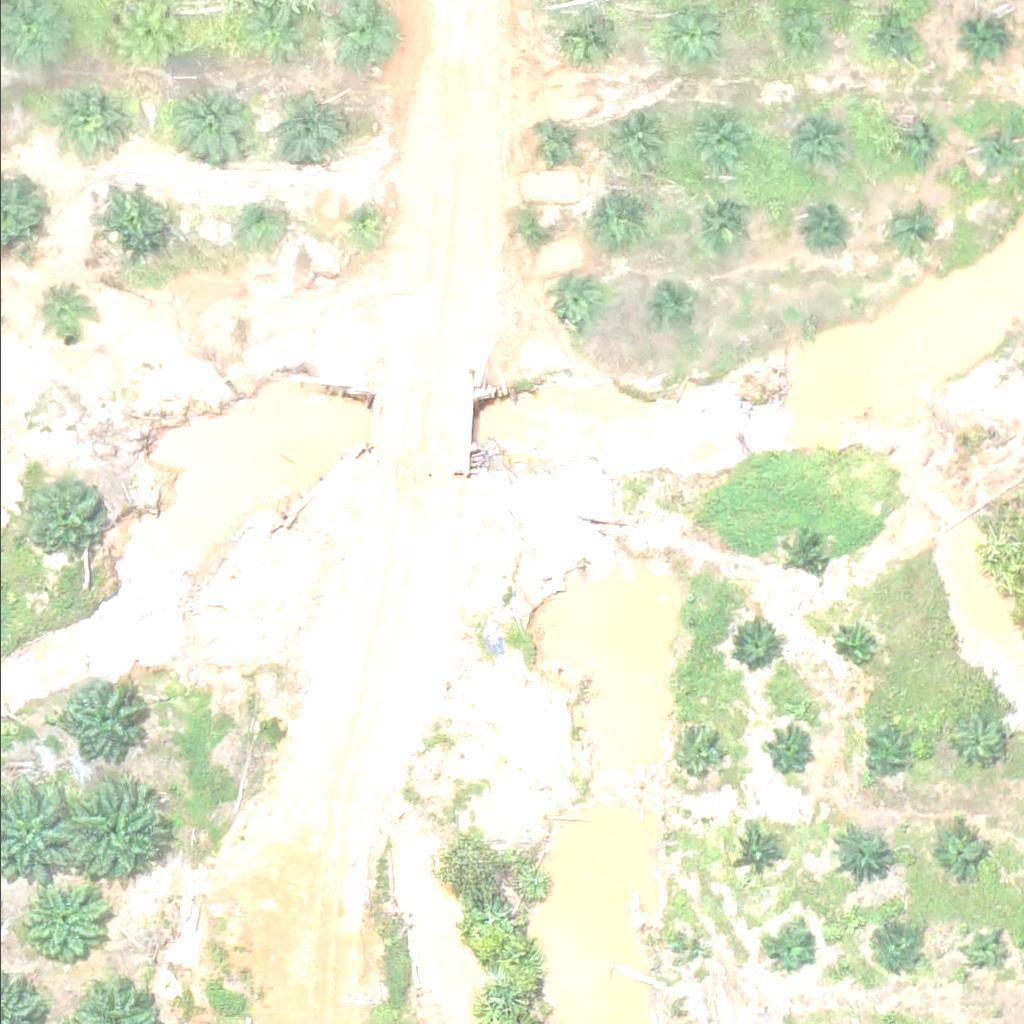Kelapa_Sawit: (67, 780, 168, 880), (15, 876, 103, 964), (55, 675, 143, 763), (14, 474, 102, 561), (271, 89, 347, 164), (90, 180, 166, 255), (174, 89, 250, 164), (57, 81, 132, 156), (781, 108, 844, 171), (684, 106, 747, 169), (334, 2, 397, 65), (588, 193, 651, 256), (603, 107, 666, 170), (825, 822, 888, 885), (238, 8, 301, 70), (651, 3, 714, 65), (553, 8, 616, 70), (693, 193, 756, 255), (31, 287, 94, 349), (530, 120, 581, 170), (509, 206, 560, 256), (770, 920, 821, 970), (869, 924, 920, 974), (932, 822, 983, 872), (947, 716, 998, 766), (864, 727, 915, 777), (766, 727, 817, 777), (727, 827, 778, 877), (795, 209, 845, 259), (964, 16, 1014, 66), (969, 123, 1019, 173), (884, 119, 934, 169), (885, 205, 935, 255), (727, 618, 777, 668), (544, 277, 594, 327), (649, 287, 699, 337), (336, 199, 386, 249), (229, 195, 279, 245), (666, 729, 716, 779), (831, 621, 881, 671), (775, 530, 825, 580), (860, 13, 910, 63), (966, 930, 1004, 967), (676, 946, 701, 971)
